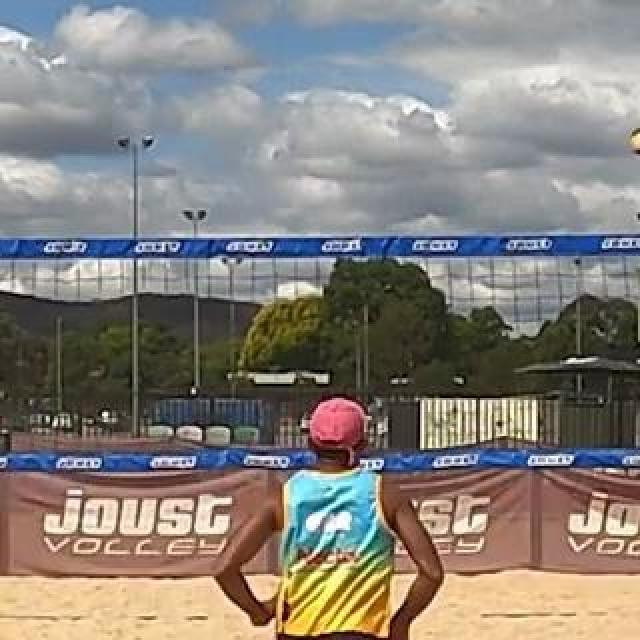volleyball: (630, 126, 640, 156)
